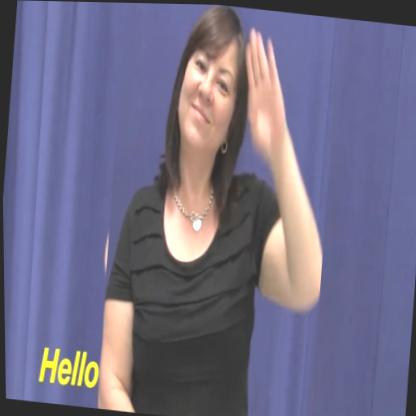Hello: (90, 2, 345, 416)
